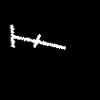double_crochet: (10, 25, 65, 49)
